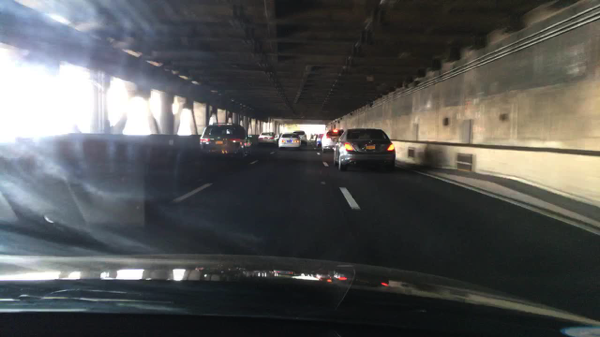car: (332, 128, 396, 172), (198, 122, 253, 160), (321, 129, 345, 154), (278, 132, 302, 151), (257, 131, 278, 146), (293, 130, 308, 144), (315, 132, 323, 148)
